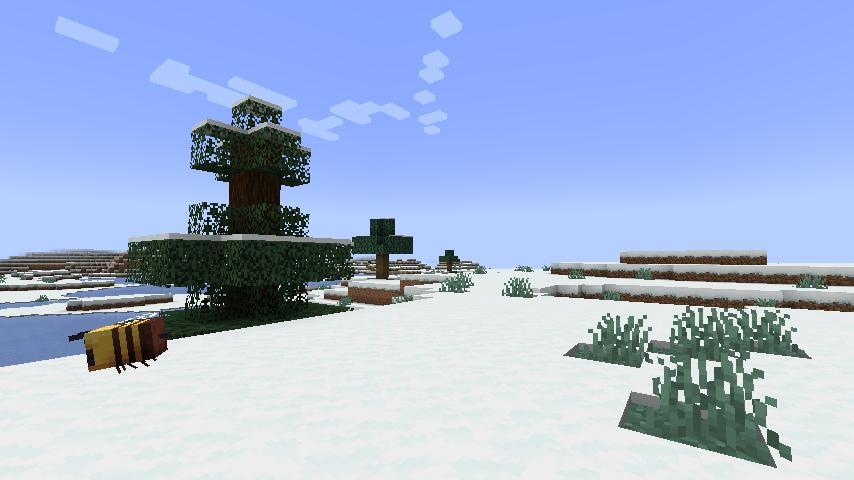bee: (65, 315, 174, 376)
